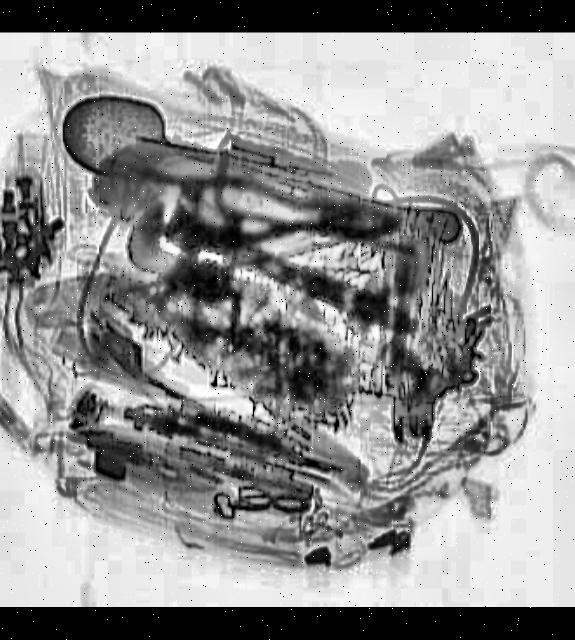Pliers: (144, 168, 402, 252)
